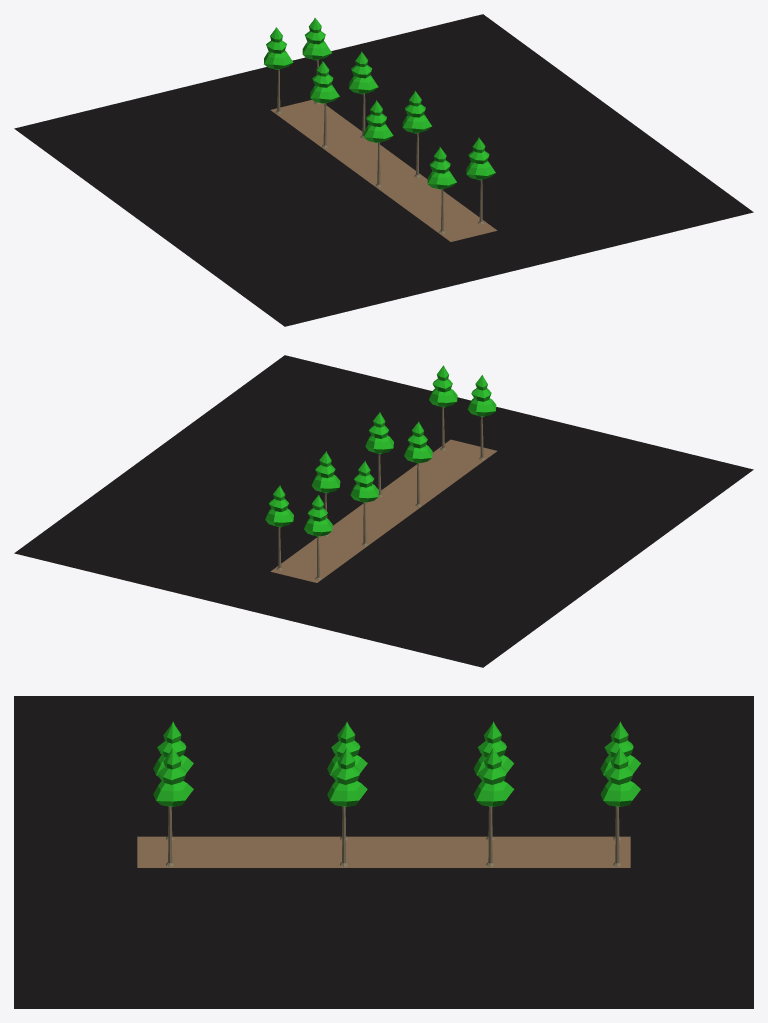
Rendered from Tile 16_Combined.fbx.
3 renders of one model, top to bottom at view 1: azimuth 30°, elevation 25°; view 2: azimuth 150°, elevation 25°; view 3: azimuth 270°, elevation 25°, orthographic. The views are drawn at different scales.
Visible parts, largest first — view 1: MeshBaker_Cluster_0_mesh_mesh; view 2: MeshBaker_Cluster_0_mesh_mesh; view 3: MeshBaker_Cluster_0_mesh_mesh.
Part boxes in pixels (box(x1,y1,x2,y2)): MeshBaker_Cluster_0_mesh_mesh: box(14, 14, 753, 326); MeshBaker_Cluster_0_mesh_mesh: box(14, 355, 753, 667); MeshBaker_Cluster_0_mesh_mesh: box(14, 696, 753, 1008).
Size of the model in its own units: 3000 by 524 by 3000.
